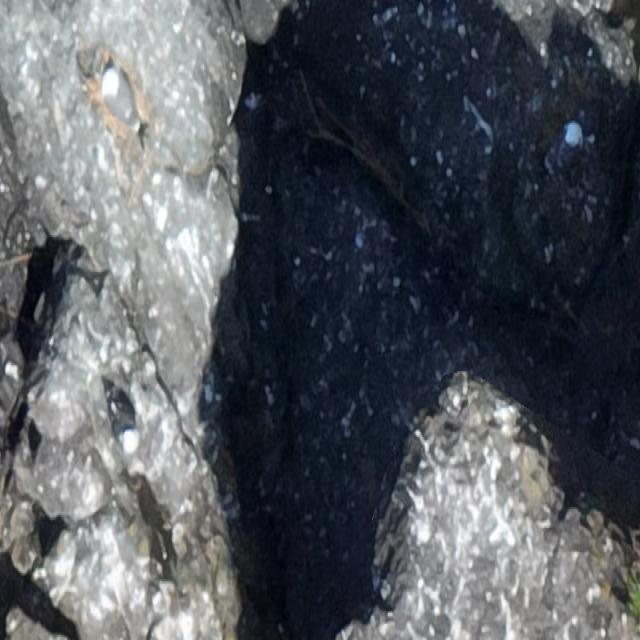umineko: (100, 71, 141, 135), (109, 392, 137, 450), (552, 122, 582, 172)
